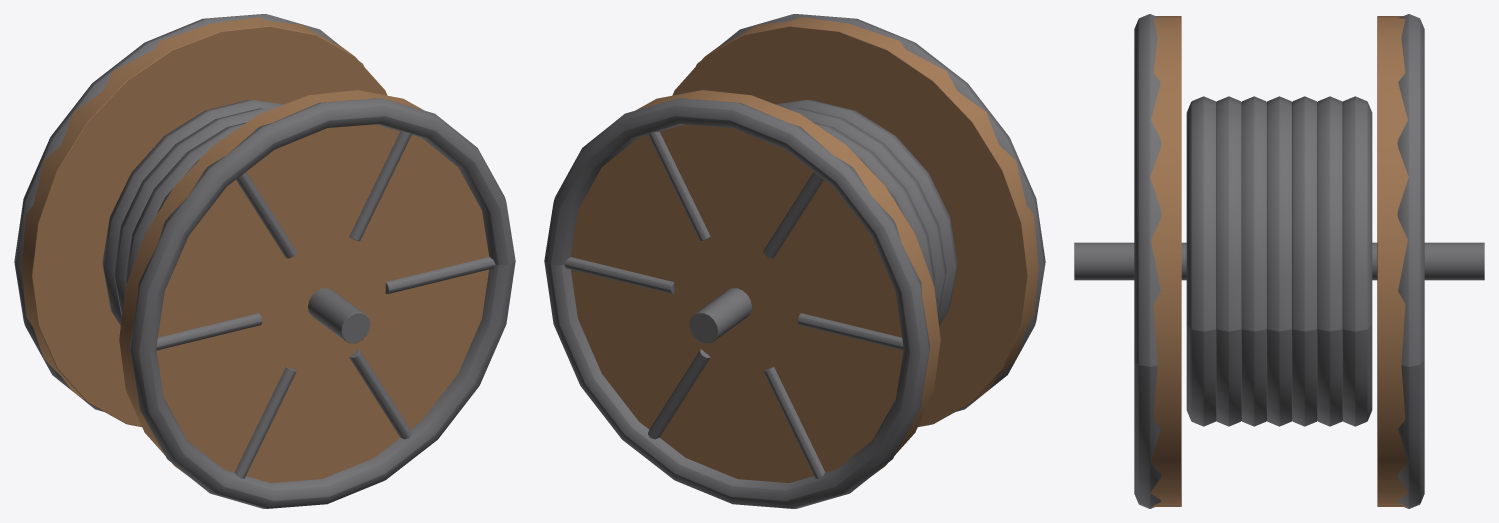
File: LV_cable_spool.fbx
The picture shows the model from 3 angles, left to right: view 1: azimuth 30°, elevation 25°; view 2: azimuth 150°, elevation 25°; view 3: azimuth 270°, elevation 25°; orthographic projection. The views are drawn at different scales.
Parts seen in each view (by area): view 1: LV_cable_spool; view 2: LV_cable_spool; view 3: LV_cable_spool.
Boxes of the visible parts, x1,y1,x2,y2 form: LV_cable_spool: (14, 14, 515, 508); LV_cable_spool: (544, 14, 1045, 508); LV_cable_spool: (1074, 14, 1484, 508).
Bounding box in the file's own units: 1.58 × 1.58 × 1.3.
